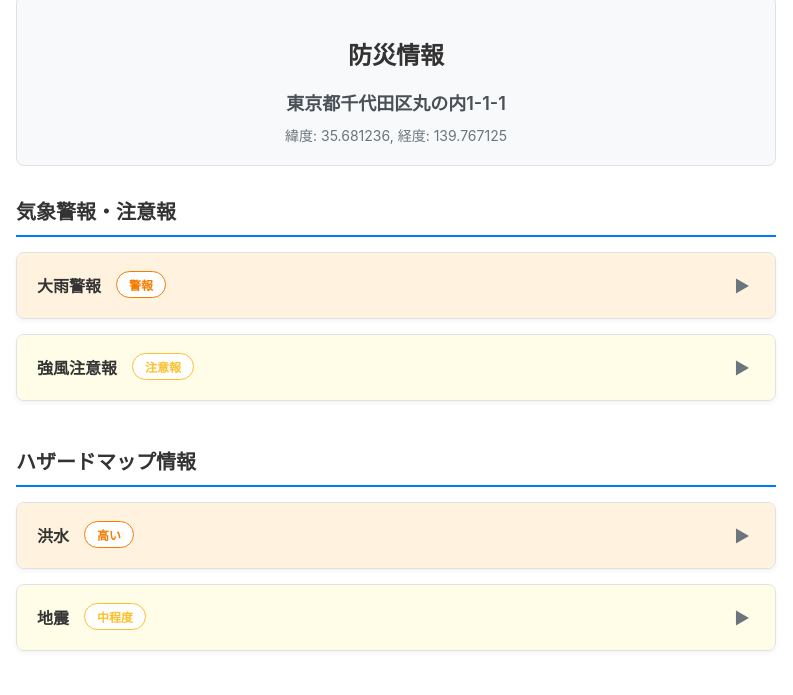
Test: DisasterInfoDisplayComponent › ハザード情報 › 詳細URLがある場合、リンクが表示される
Click the text "洪水" at (396, 535), box 17,503 -> 775,568
(page scrolled)
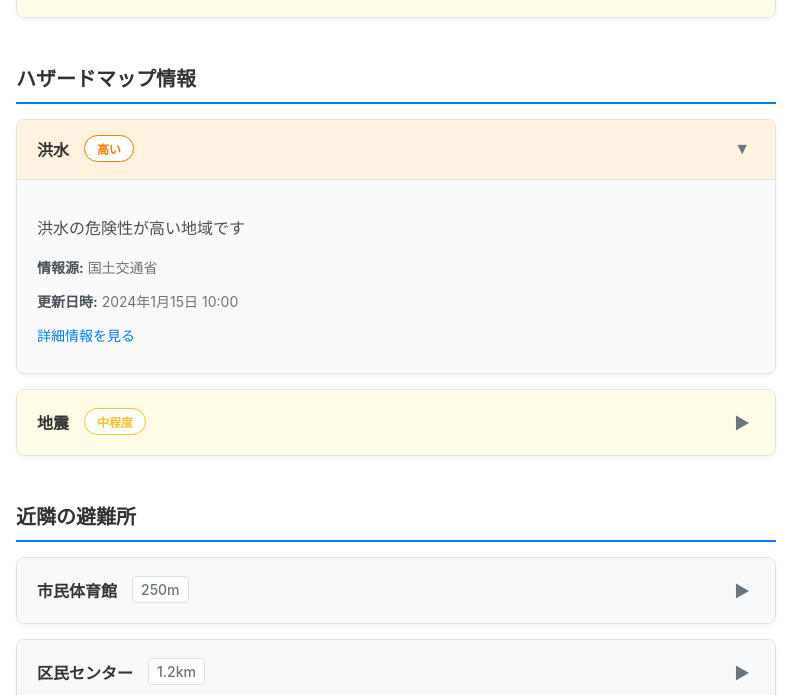
Now the link "詳細情報を見る" is shown, box 37,326 -> 135,344
